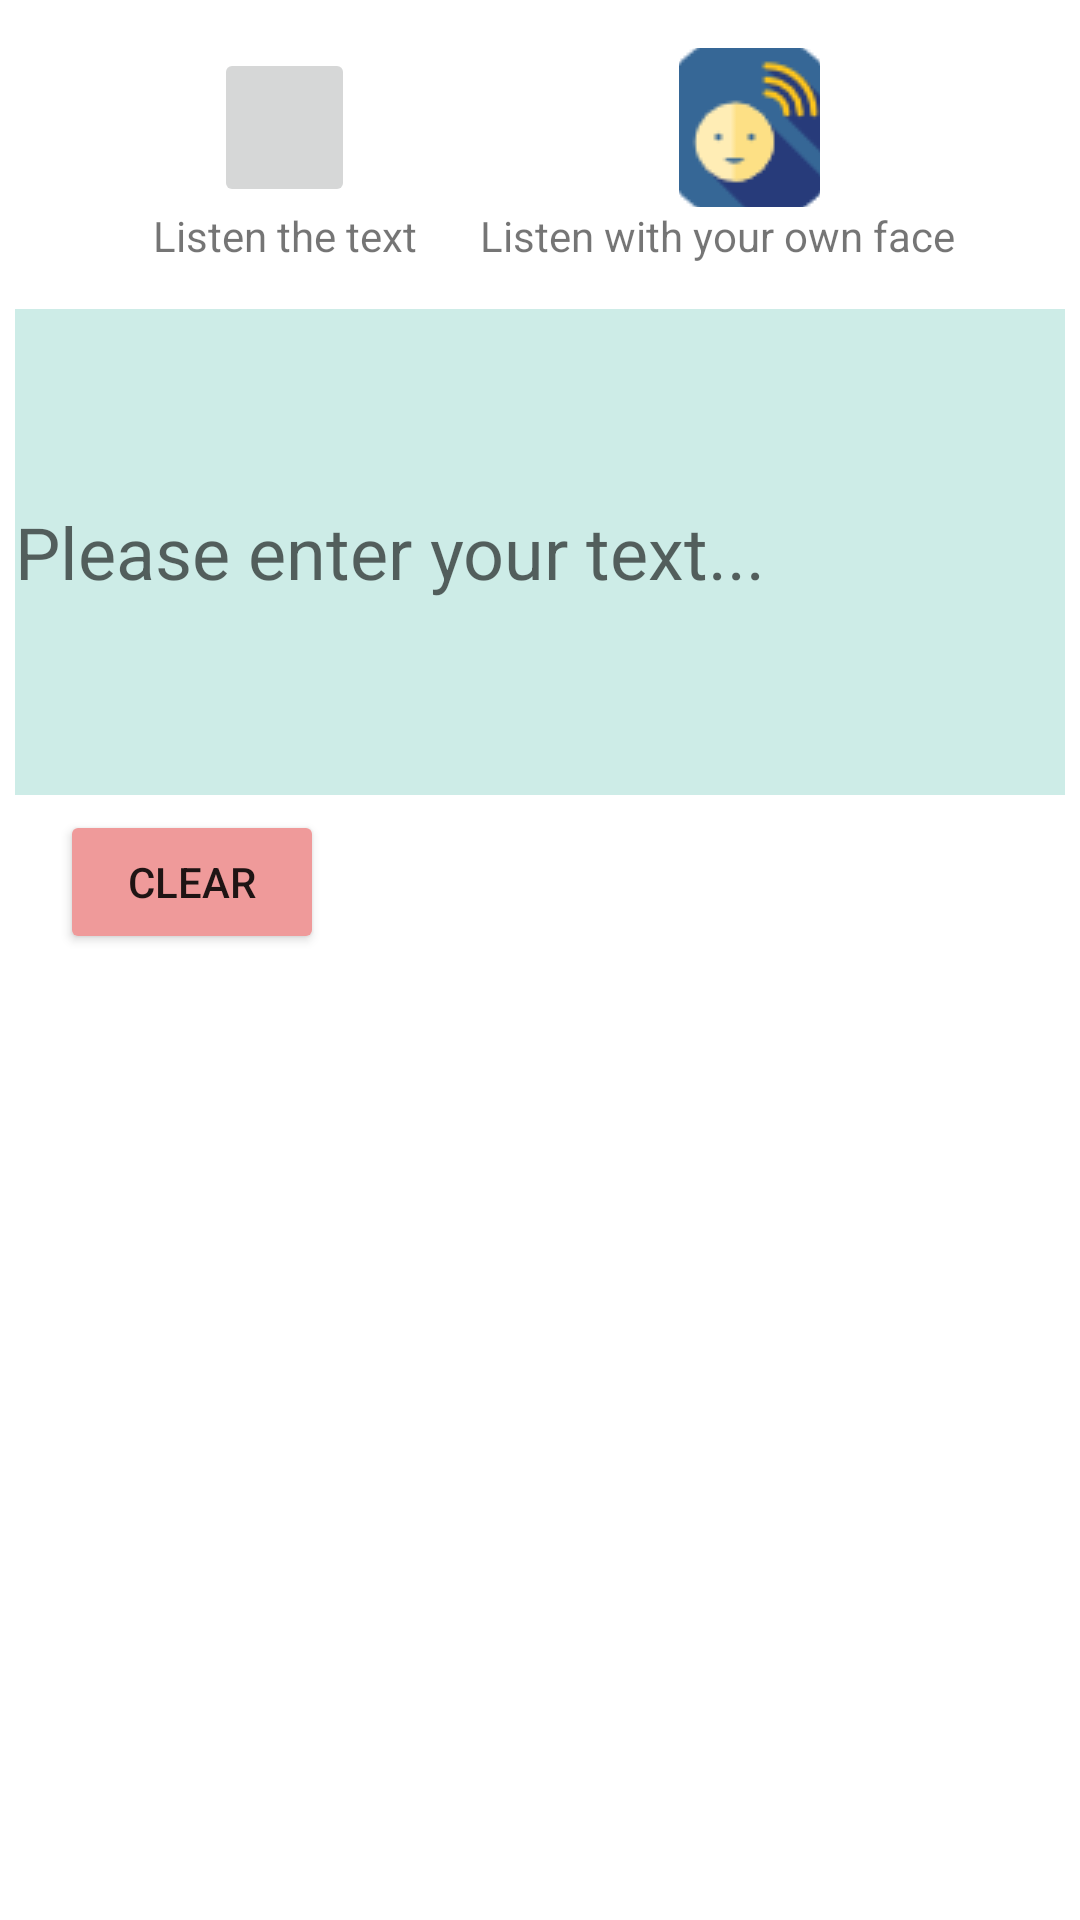

Screen size 1080x1920. Icon name, then its box in pixels as (x1, y1, x2, y2):
listen adult own voice: (679, 48, 820, 207)
